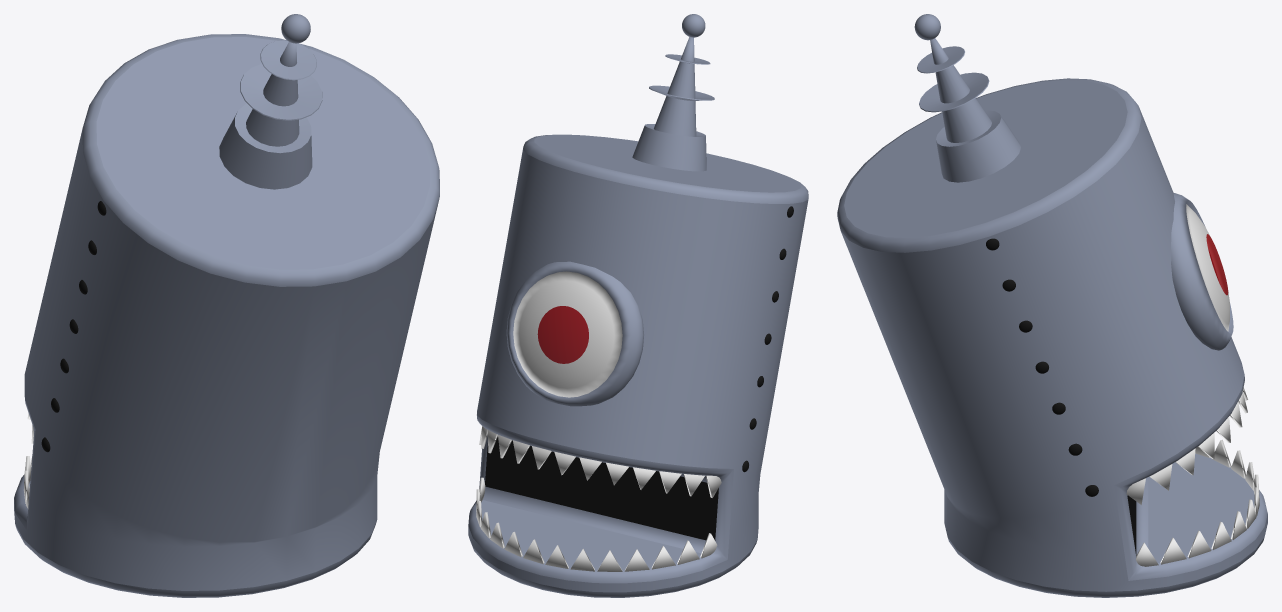
The model's file is Robot Base_Mouth Open.fbx.
3 renders of one model, left to right at view 1: azimuth 30°, elevation 25°; view 2: azimuth 150°, elevation 25°; view 3: azimuth 270°, elevation 25°, orthographic. The views are drawn at different scales.
Parts seen in each view (by area): view 1: Head.005, Antenna.003, Rivets.006, Sphere.011; view 2: Head.005, Eye.008, Teeth.002, Antenna.003, Rivets.006, Sphere.011; view 3: Head.005, Antenna.003, Eye.008, Teeth.002, Rivets.006.
Part boxes in pixels (<box>): Head.005: <box>14,34,439,597</box>; Antenna.003: <box>219,40,322,189</box>; Rivets.006: <box>41,201,106,452</box>; Sphere.011: <box>281,14,310,43</box>; Head.005: <box>468,134,808,597</box>; Eye.008: <box>506,261,643,406</box>; Teeth.002: <box>476,426,721,571</box>; Antenna.003: <box>632,37,714,171</box>; Rivets.006: <box>742,206,793,472</box>; Sphere.011: <box>682,14,705,37</box>; Head.005: <box>837,78,1267,597</box>; Antenna.003: <box>917,38,1020,182</box>; Eye.008: <box>1171,193,1233,350</box>; Teeth.002: <box>1126,388,1259,566</box>; Rivets.006: <box>986,238,1098,496</box>.
Bounding box in the file's own units: 305 × 530 × 400.
